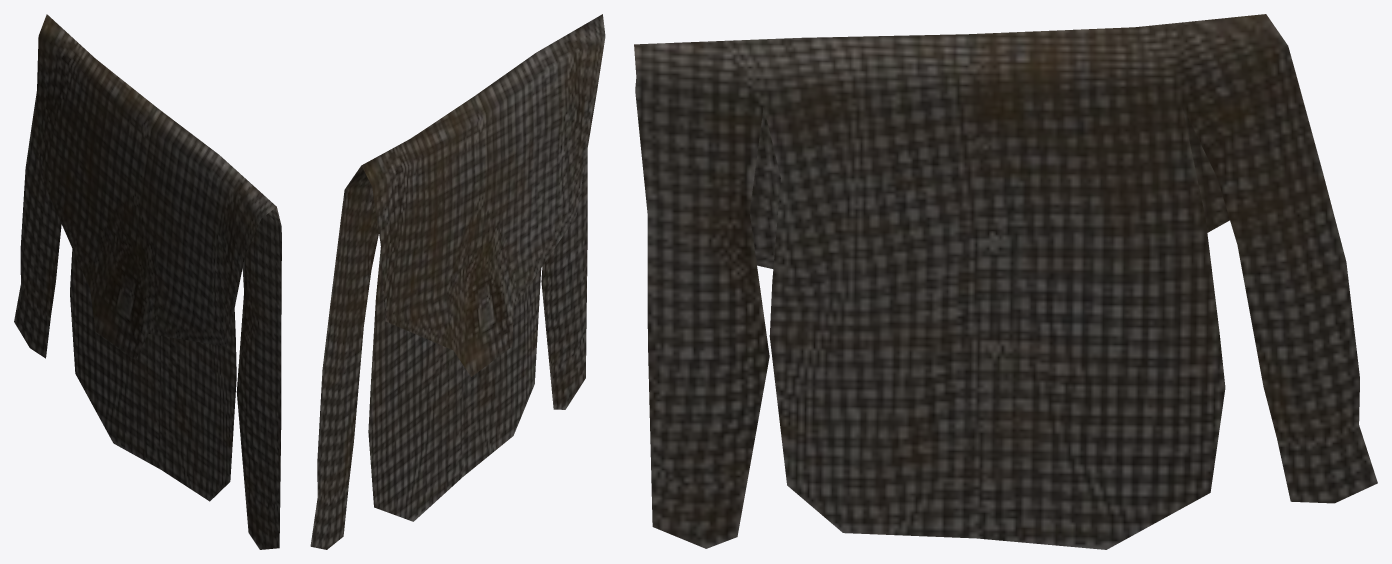
Rendered from Shirt_02.FBX.
The picture shows the model from 3 angles, left to right: view 1: azimuth 30°, elevation 25°; view 2: azimuth 150°, elevation 25°; view 3: azimuth 270°, elevation 25°; orthographic projection. The views are drawn at different scales.
Visible parts, largest first — view 1: z; view 2: z; view 3: z.
Part boxes in pixels (box(x1,y1,x2,y2)): z: box(14, 14, 281, 549); z: box(310, 14, 605, 549); z: box(634, 14, 1377, 549).
Bounding box in the file's own units: 4.56 × 46.07 × 58.55.
